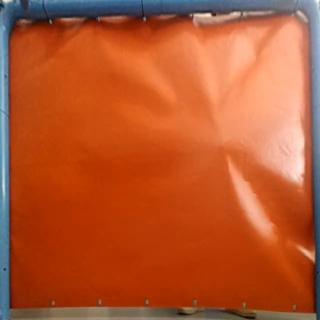Hit-hRxx: (214, 140, 232, 155)
